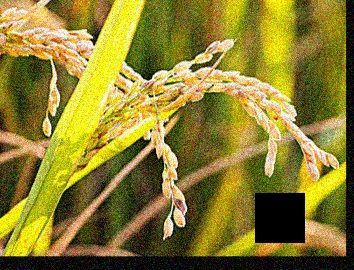rice: (101, 34, 337, 243)
